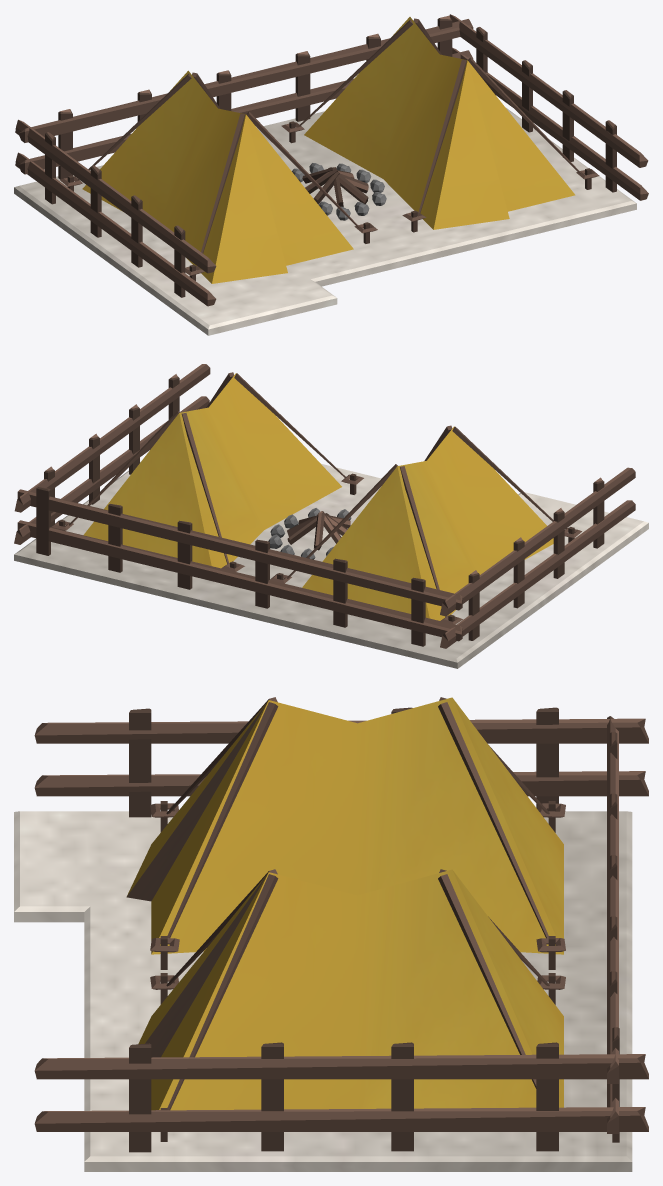
Rendered from camp_0lvl.fbx.
3 renders of one model, top to bottom at view 1: azimuth 30°, elevation 25°; view 2: azimuth 150°, elevation 25°; view 3: azimuth 270°, elevation 25°, orthographic. The views are drawn at different scales.
Parts seen in each view (by area): view 1: camp_0lvl; view 2: camp_0lvl; view 3: camp_0lvl.
Part boxes in pixels (<box>): camp_0lvl: <box>14,14,648,335</box>; camp_0lvl: <box>14,364,648,668</box>; camp_0lvl: <box>14,697,648,1171</box>.
Bounding box in the file's own units: 6.01 × 1.73 × 4.6.
